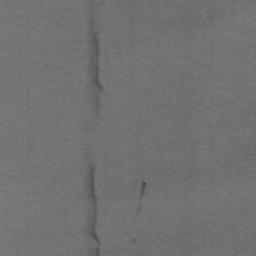Inclusion: (84, 146, 104, 256), (90, 0, 104, 115), (138, 180, 148, 201), (131, 236, 138, 244)
